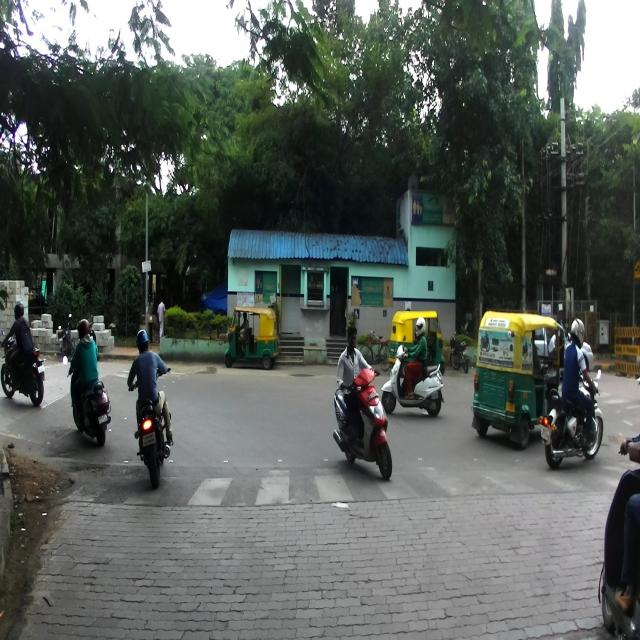autorickshaw: (470, 306, 560, 450), (388, 310, 446, 378), (223, 304, 280, 370)
motorcycle: (539, 367, 604, 467), (128, 365, 176, 491), (0, 328, 47, 407)
scooter: (331, 368, 396, 482), (380, 333, 446, 417), (62, 353, 112, 445)
